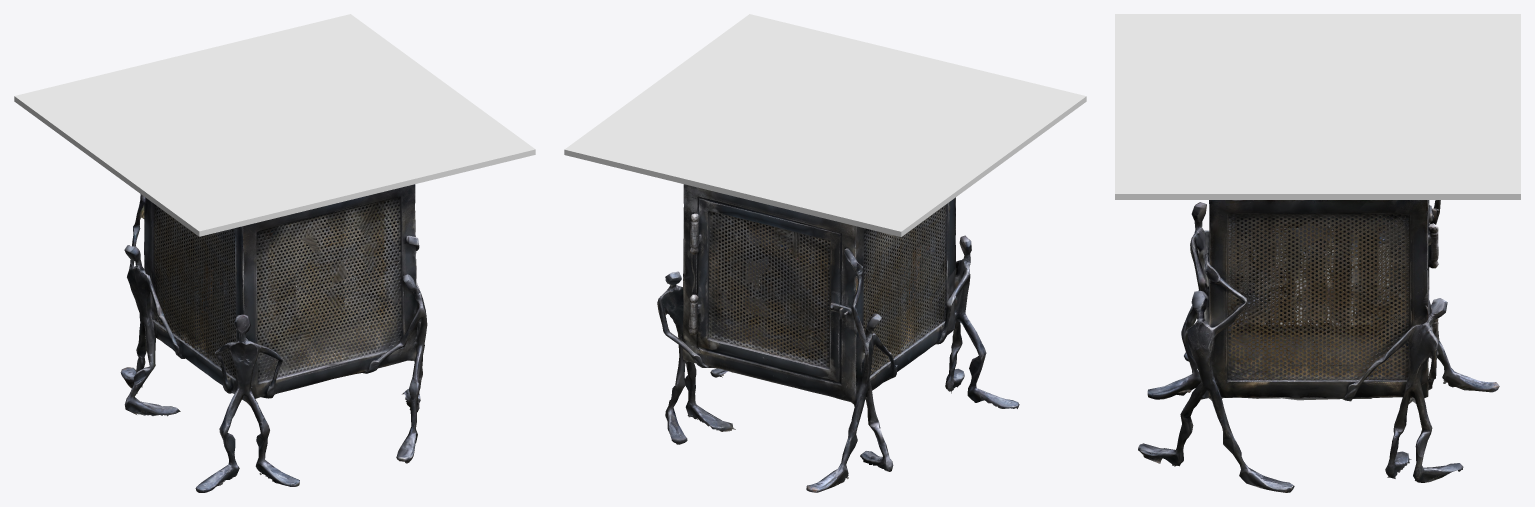
Rendered from carry_table.glb.
The picture shows the model from 3 angles, left to right: view 1: azimuth 30°, elevation 25°; view 2: azimuth 150°, elevation 25°; view 3: azimuth 270°, elevation 25°; orthographic projection. The views are drawn at different scales.
Parts seen in each view (by area): view 1: Cube, model.001; view 2: Cube, model.001; view 3: Cube, model.001.
Boxes of the visible parts, x1,y1,x2,y2 form: Cube: (14,14,535,236); model.001: (120,184,427,492); Cube: (564,14,1086,236); model.001: (657,184,1019,492); Cube: (1115,14,1520,199); model.001: (1138,200,1499,492).
Bounding box in the file's own units: 0.7012 × 0.5894 × 0.6679.
Materials: 2 (1 with a texture image).
